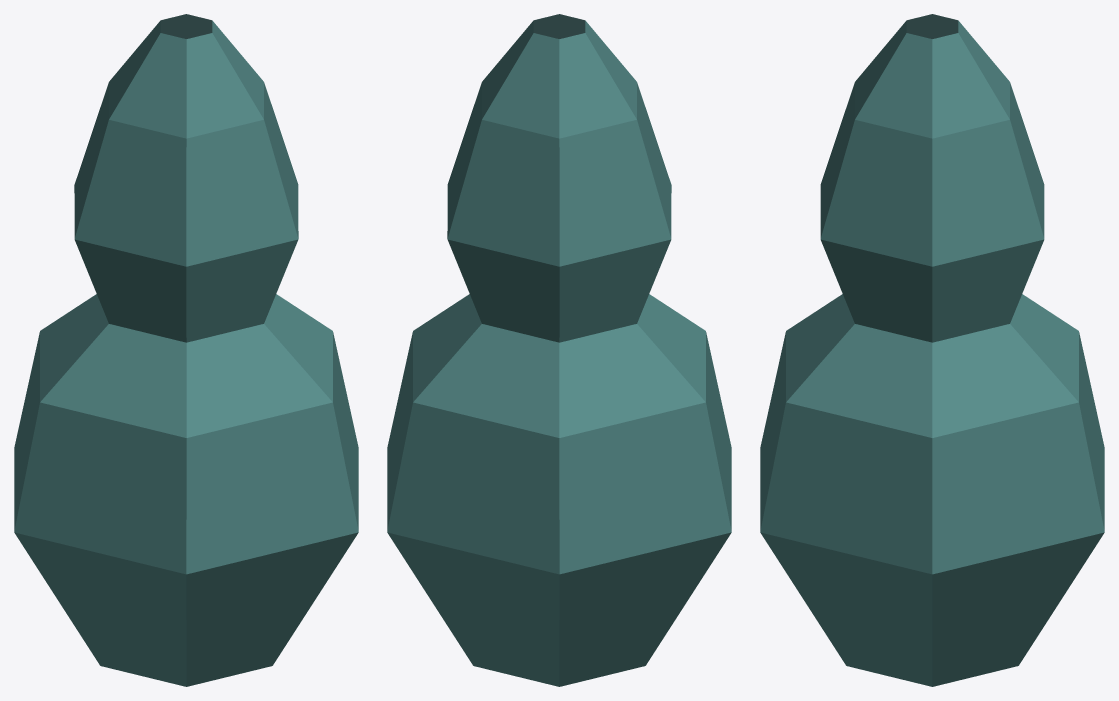
Rendered from vase-44.glb.
The picture shows the model from 3 angles, left to right: view 1: azimuth 30°, elevation 25°; view 2: azimuth 150°, elevation 25°; view 3: azimuth 270°, elevation 25°; orthographic projection.
Visible parts, largest first — view 1: vase_44; view 2: vase_44; view 3: vase_44.
Part boxes in pixels (left/top/right/bottom): vase_44: left=14, top=14, right=358, bottom=686; vase_44: left=387, top=14, right=731, bottom=686; vase_44: left=760, top=14, right=1104, bottom=686.
Bounding box in the file's own units: 0.2458 × 0.4215 × 0.2129.
